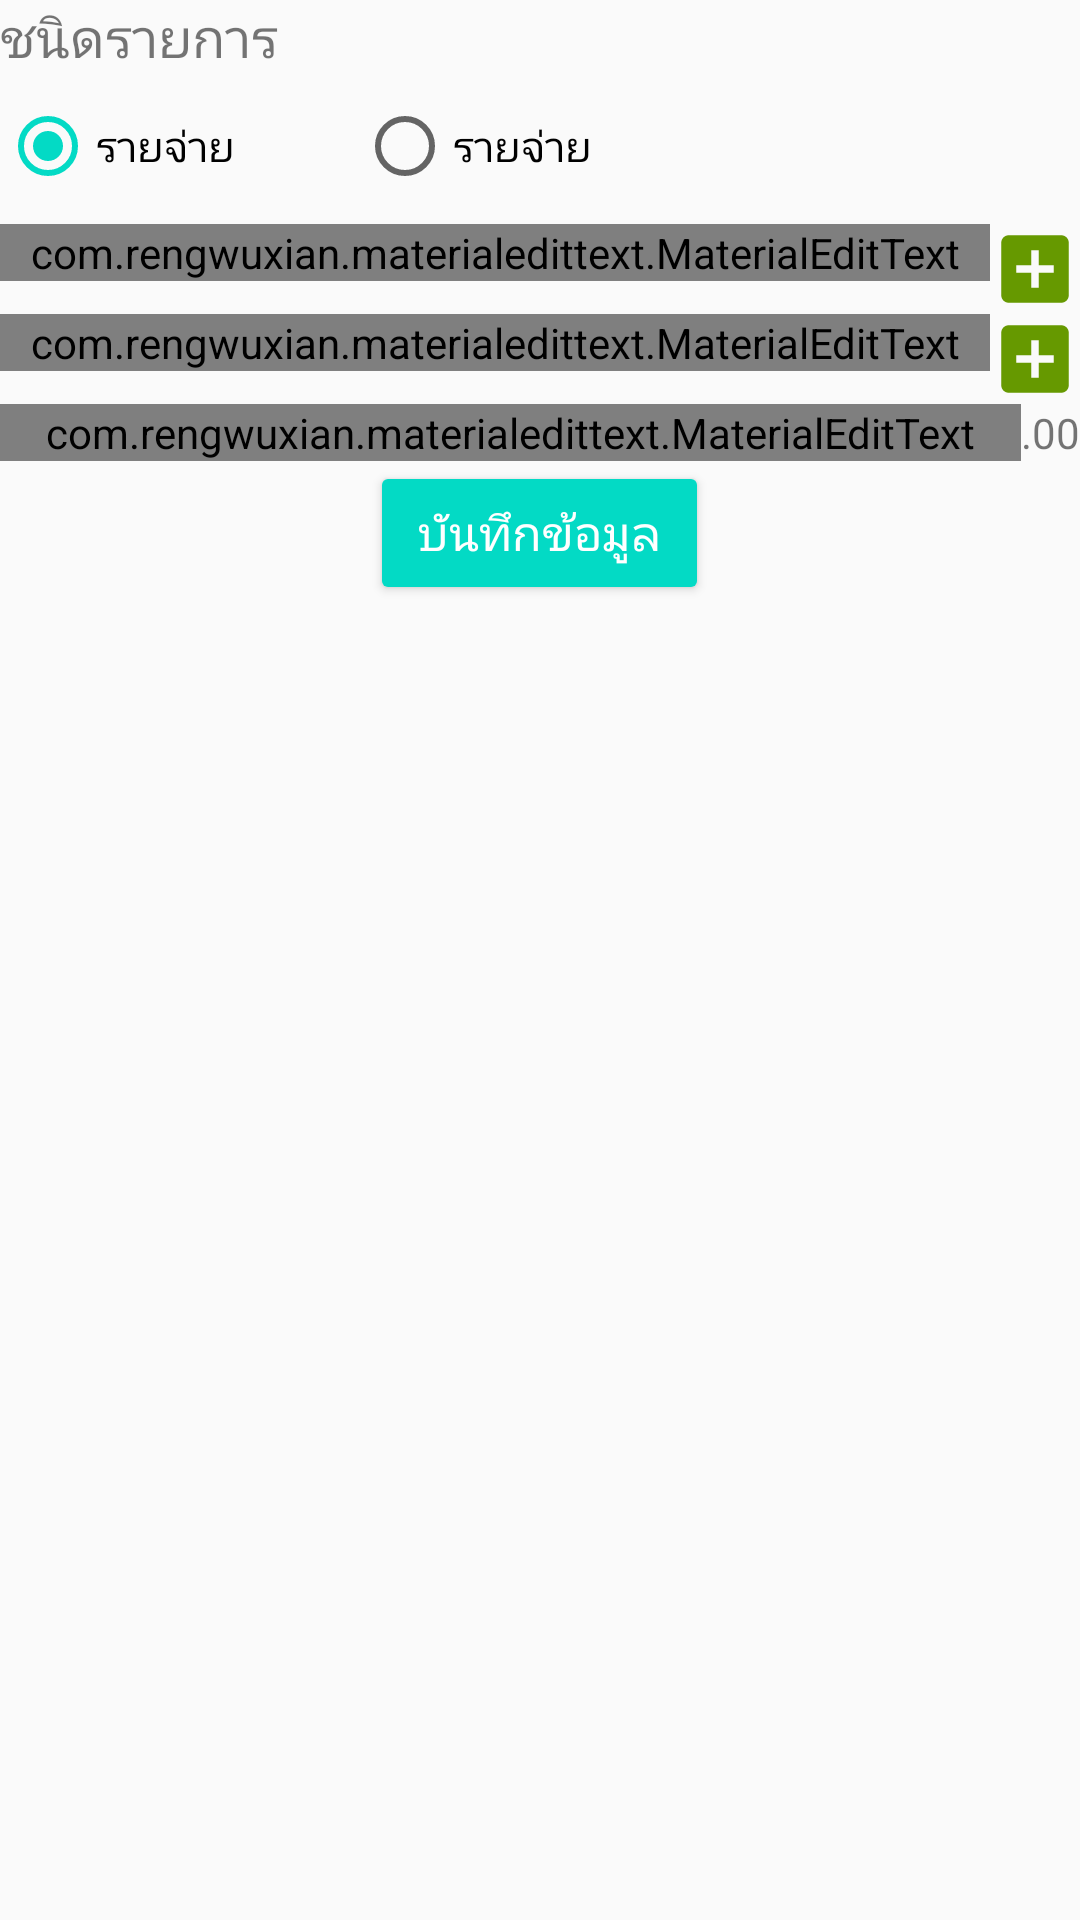

Where to tap for icons on this 1080*1920 app screen, as (x,y):
add box: (1035,269), (1035,359)
